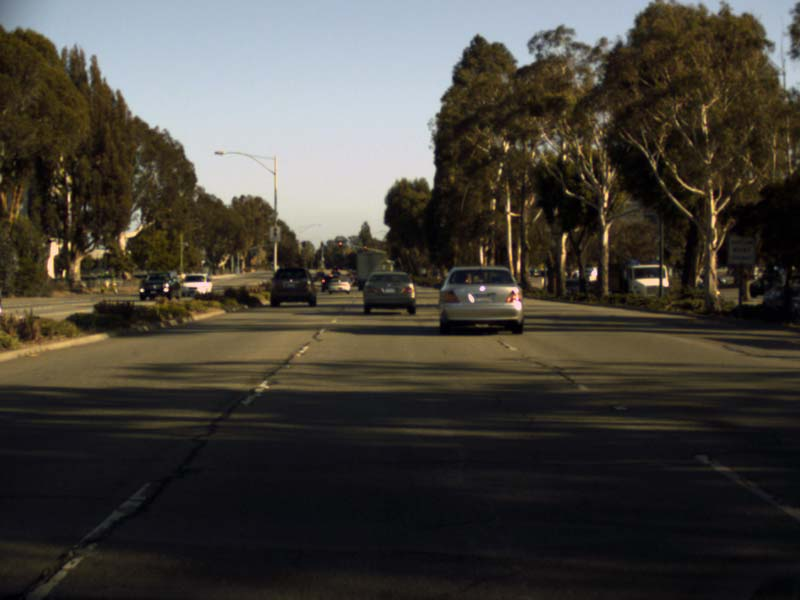Red: (338, 242, 342, 248)
